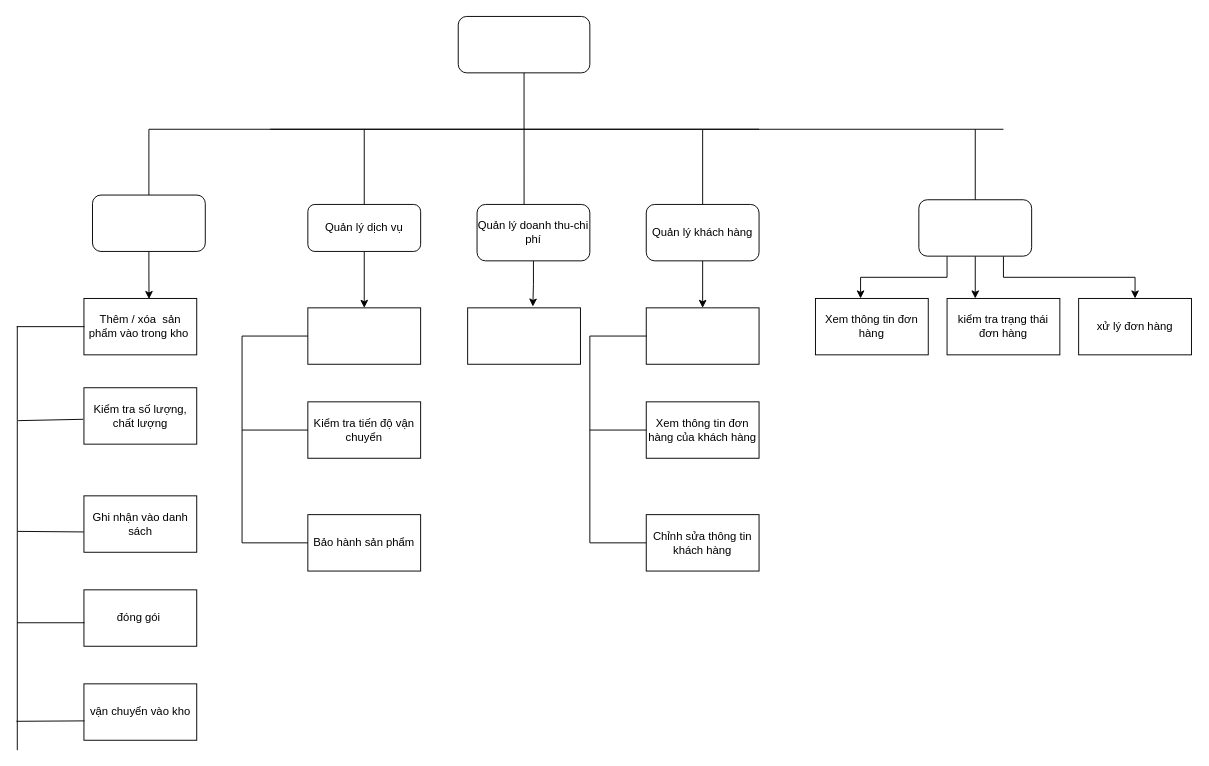
Image size: 1209x766. Some labels were removed from this diagram. The shapes that lost their labels are listed below. From the top down, each one's centre as x and y in pixels, then its label:
At point 523,44: "Quản lí cửa hàng vali".
At point 148,222: "Quản lý kho hàng".
At point 975,227: "Quản lý đơn hàng".
At point 364,335: "Giao tiếp hỗ trợ khách hàng".
At point 523,335: "Tính chi phí / doanh thu hằng tháng".
At point 702,335: "Quản lí đăng nhập /đăng xuất".
